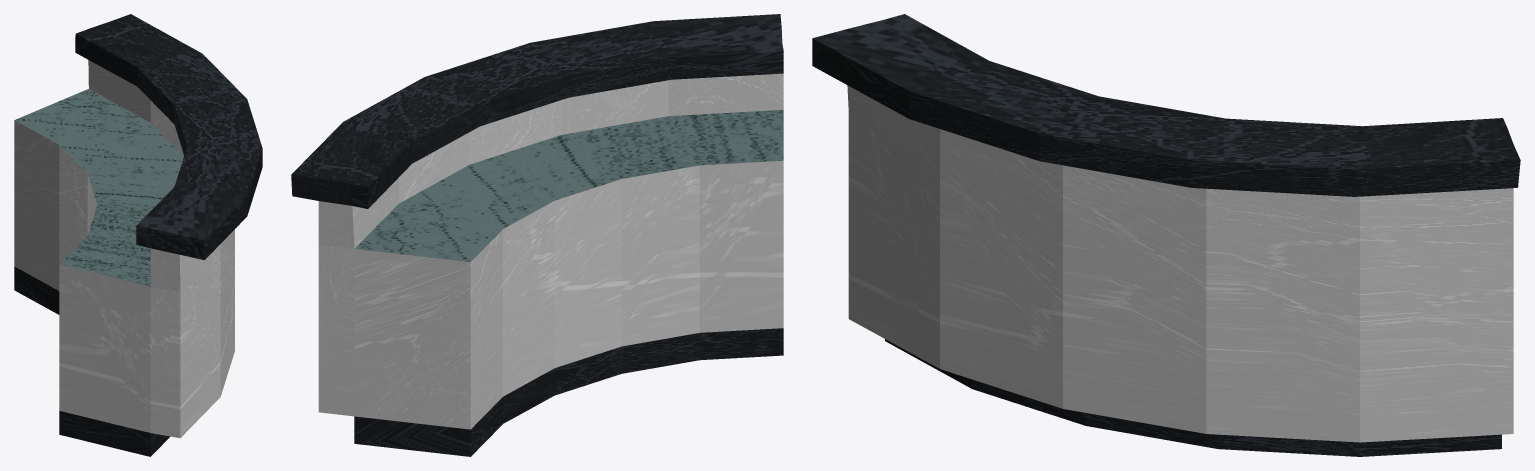
Rendered from coffee_desk.fbx.
The picture shows the model from 3 angles, left to right: view 1: azimuth 30°, elevation 25°; view 2: azimuth 150°, elevation 25°; view 3: azimuth 270°, elevation 25°; orthographic projection. The views are drawn at different scales.
Parts seen in each view (by area): view 1: Cylinder; view 2: Cylinder; view 3: Cylinder.
Part boxes in pixels (x1,y1,x2,y2): Cylinder: (14, 14, 262, 456); Cylinder: (291, 14, 783, 456); Cylinder: (812, 14, 1520, 456).
Bounding box in the file's own units: 106 × 87.58 × 174.
